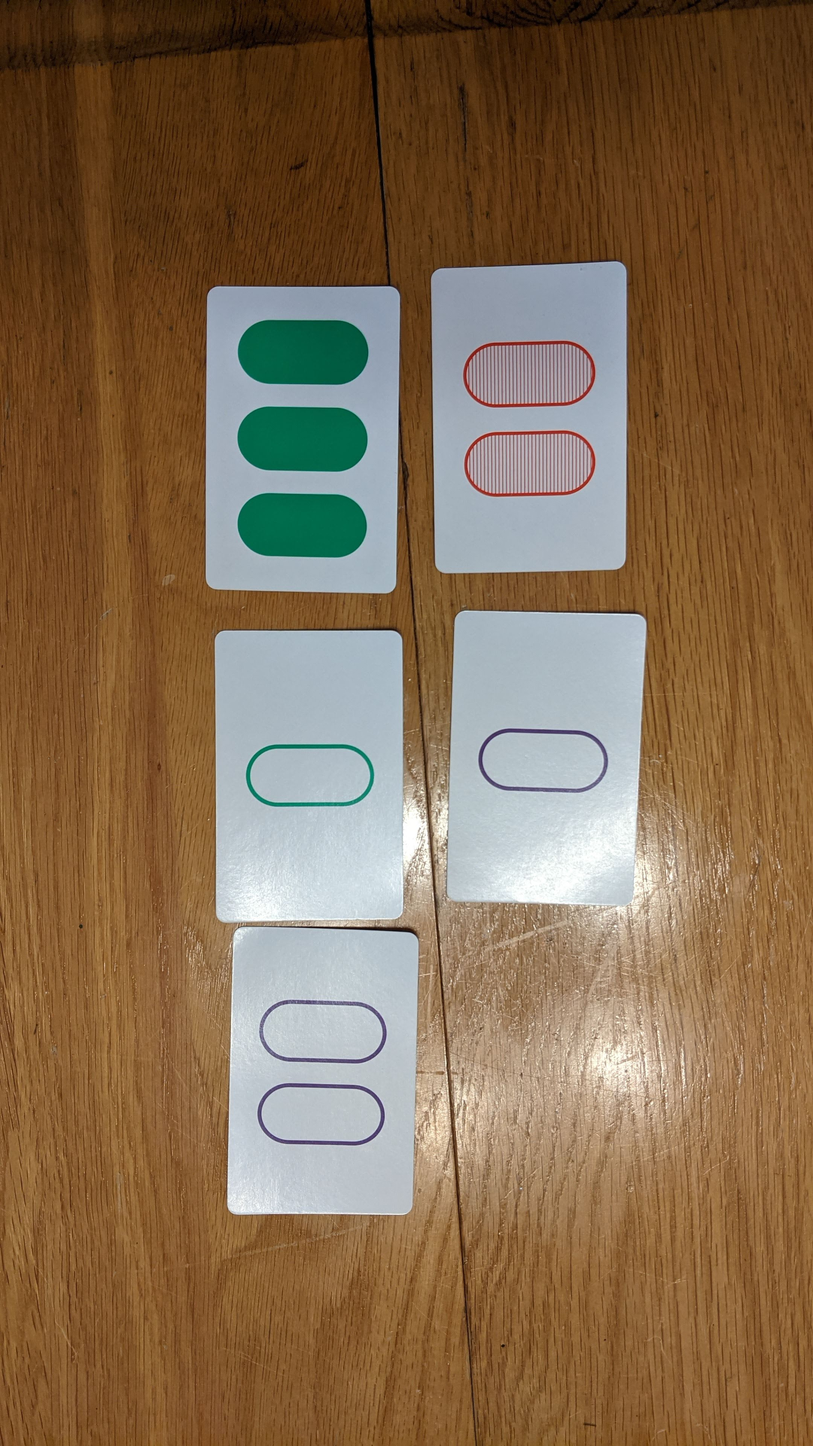card: (429, 262, 628, 574), (206, 283, 403, 595), (447, 610, 643, 905), (214, 630, 406, 923), (228, 926, 420, 1216)
